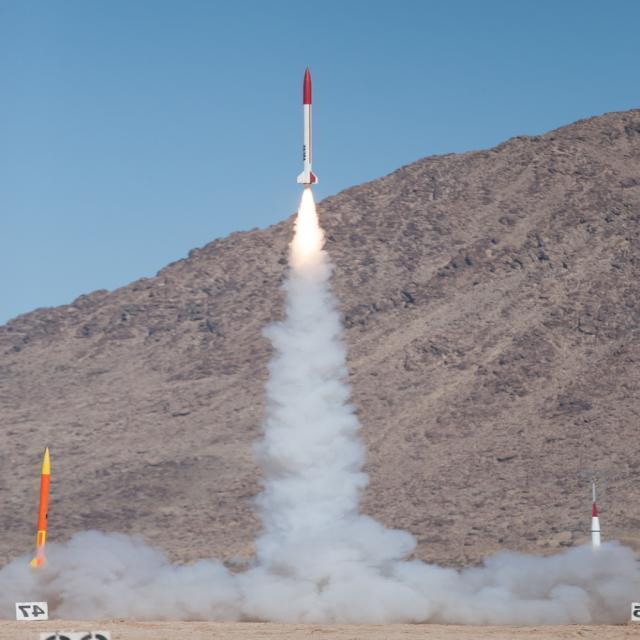missile: (290, 64, 327, 189), (32, 444, 64, 572)
